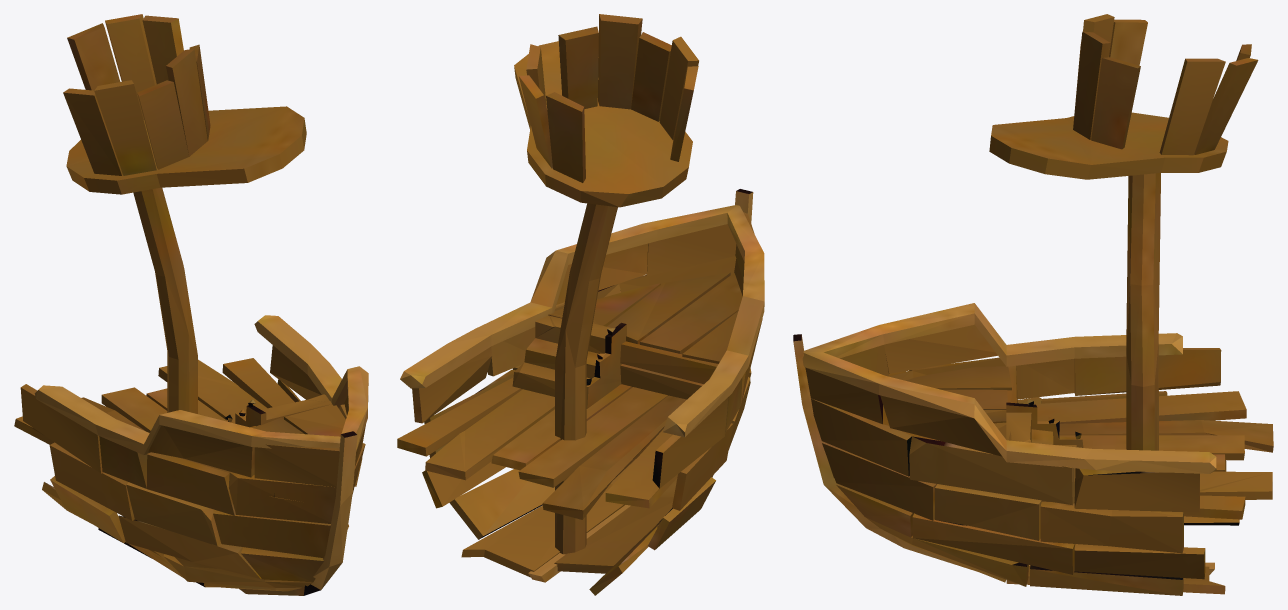
Rendered from shipwreck_low.glb.
The picture shows the model from 3 angles, left to right: view 1: azimuth 30°, elevation 25°; view 2: azimuth 150°, elevation 25°; view 3: azimuth 270°, elevation 25°; orthographic projection. The views are drawn at different scales.
Parts seen in each view (by area): view 1: shipwreck_low; view 2: shipwreck_low; view 3: shipwreck_low.
Part boxes in pixels (<box>): shipwreck_low: <box>14,14,368,595</box>; shipwreck_low: <box>397,14,764,595</box>; shipwreck_low: <box>793,14,1273,595</box>.
Bounding box in the file's own units: 4.42 × 8.4 × 6.89.
1 material, 1 textured.
